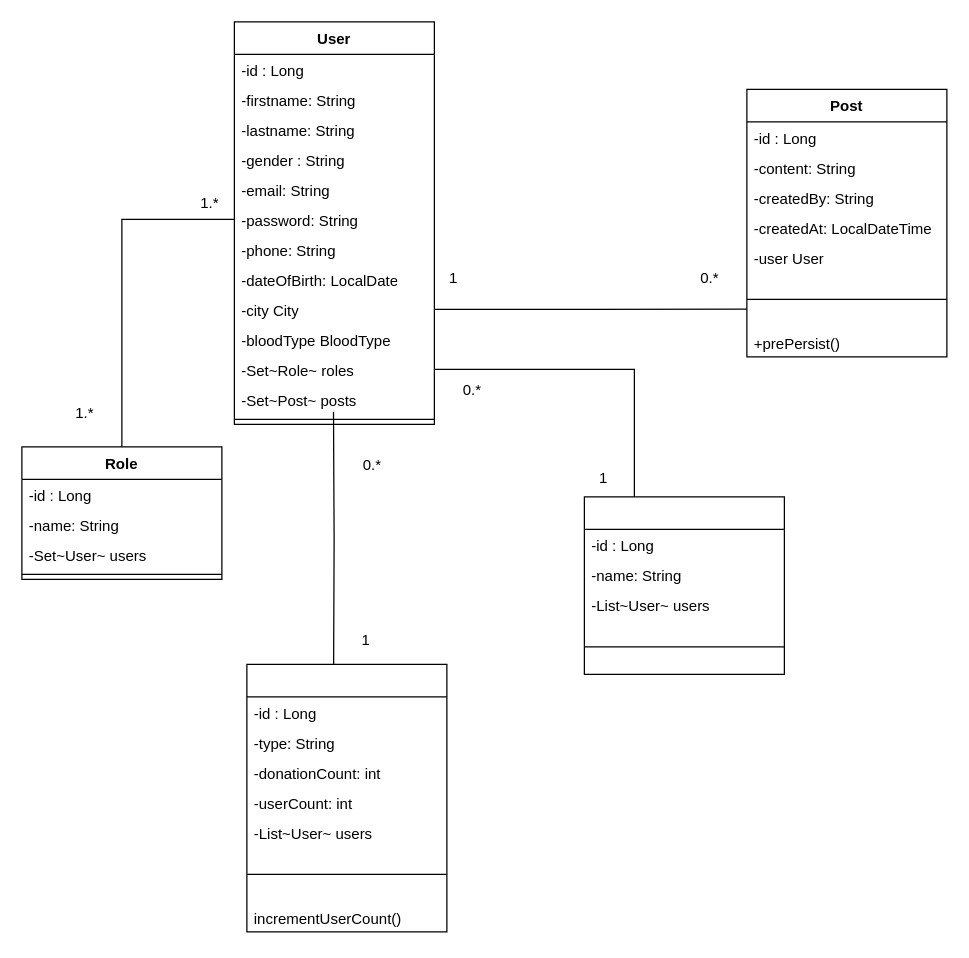
Some shapes in this 969 by 958 pixel diagram are drawn without their labels. The shapes that lost their labels are listed below. From the top down, each one's box as (x1, y1, x2, y2) in pixels, then its label:
(583, 496, 784, 674): City
(246, 663, 447, 932): BloodType
